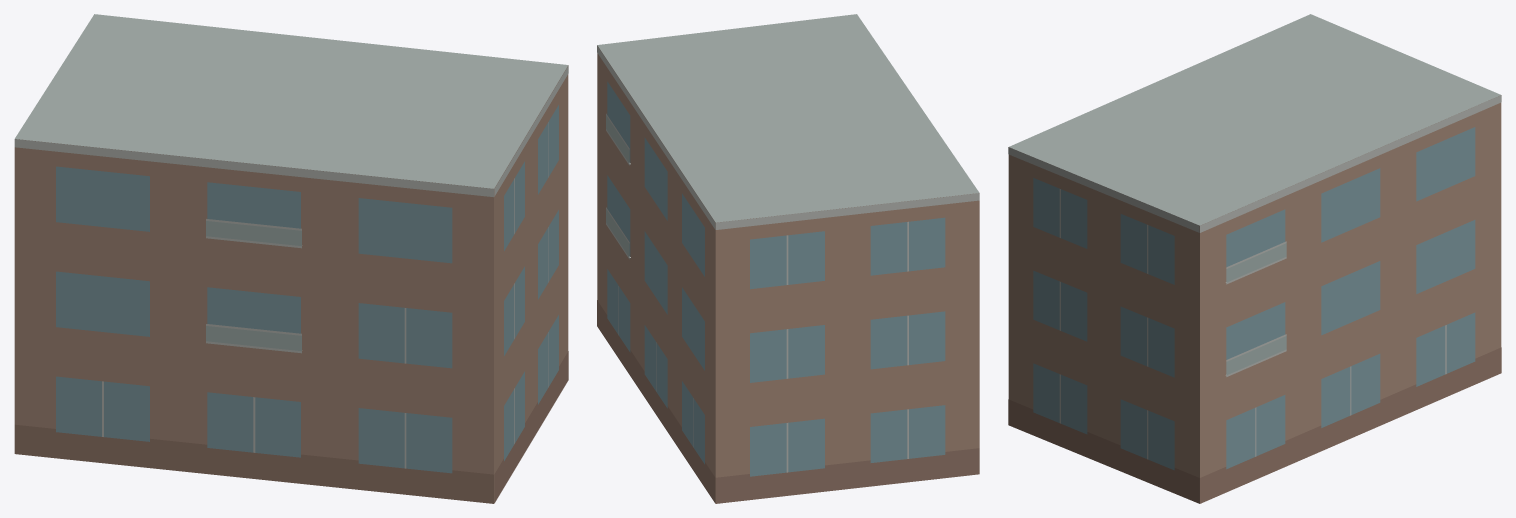
The model's file is survey-upis-32968583.glb.
3 renders of one model, left to right at view 1: azimuth 30°, elevation 25°; view 2: azimuth 150°, elevation 25°; view 3: azimuth 270°, elevation 25°, orthographic. The views are drawn at different scales.
Parts seen in each view (by area): view 1: survey-upis-32968583.tmp; view 2: survey-upis-32968583.tmp; view 3: survey-upis-32968583.tmp.
Part boxes in pixels (x1=…): survey-upis-32968583.tmp: x1=14, y1=14, x2=568, y2=503; survey-upis-32968583.tmp: x1=597, y1=14, x2=979, y2=503; survey-upis-32968583.tmp: x1=1008, y1=14, x2=1501, y2=503.
Size of the model in its own units: 14.94 by 9.15 by 14.7.
